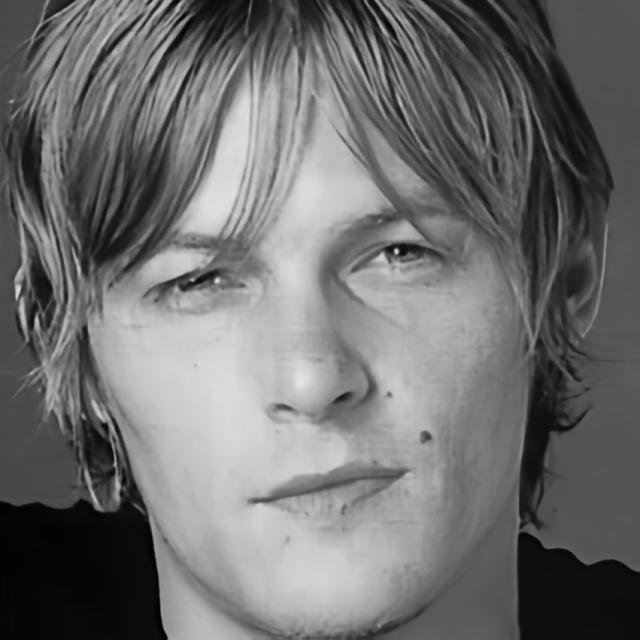content: (89, 57, 524, 631)
